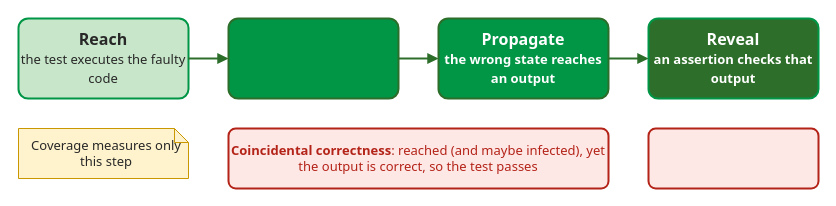
Some shapes in this 836 by 206 pixel diagram are drawn without their labels. The box of each missing label's shape, as (x1, y1, x2, y2) in pixels:
Infect the program state goes wrong: (227, 17, 399, 99)
Weak oracle : wrong output, but nothing checks it: (647, 127, 819, 189)
